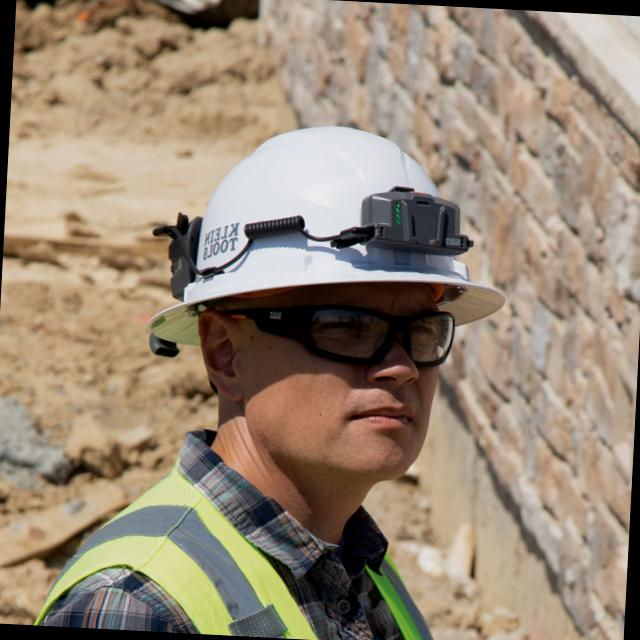goggles: (208, 294, 466, 372)
helmet: (140, 110, 520, 378)
vest: (26, 455, 473, 640)
